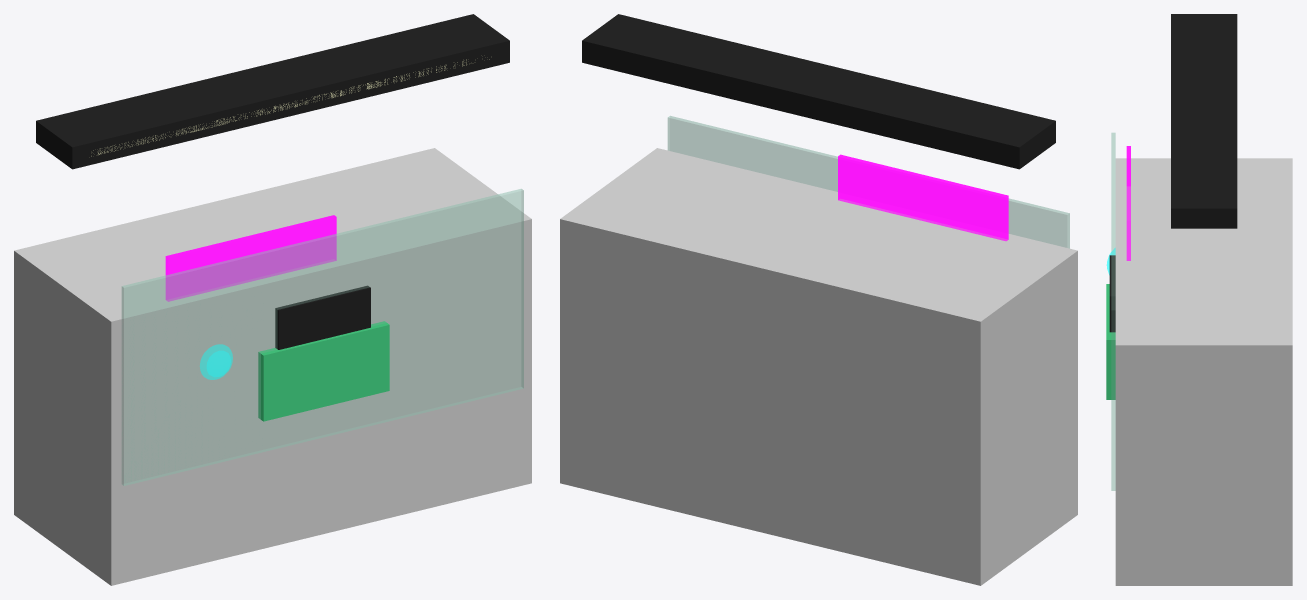
Rendered from storefronts.glb.
3 renders of one model, left to right at view 1: azimuth 30°, elevation 25°; view 2: azimuth 150°, elevation 25°; view 3: azimuth 270°, elevation 25°, orthographic. The views are drawn at different scales.
Bounding box in the file's own units: 10.4 × 9.5 × 4.21.
